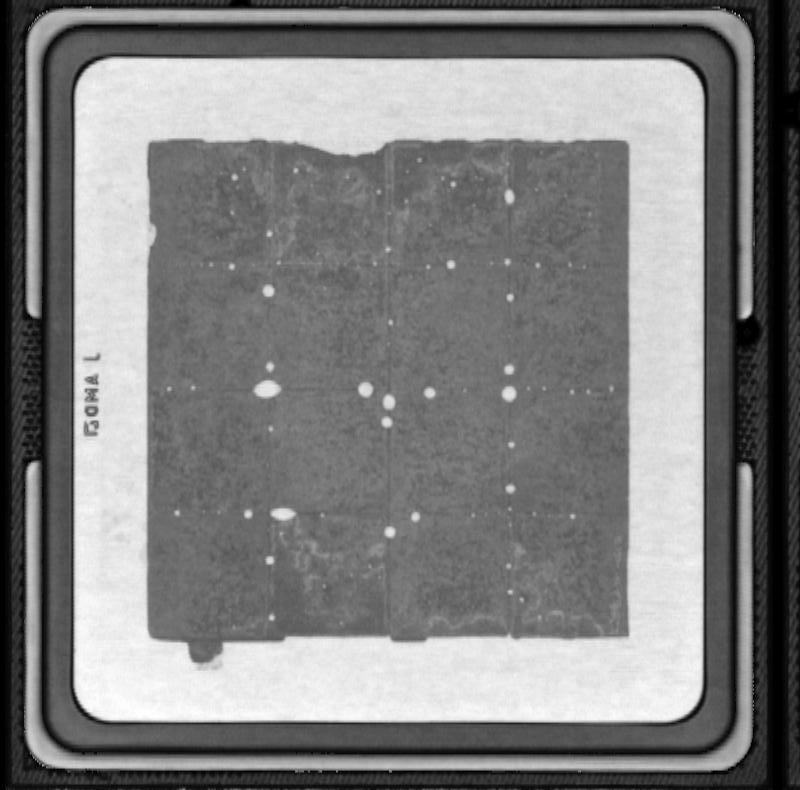CCD: (131, 108, 160, 193), (541, 108, 570, 193), (131, 535, 160, 620), (541, 535, 570, 620), (314, 108, 342, 193), (432, 108, 460, 193), (314, 535, 342, 620), (432, 535, 460, 620)
IOD: (423, 351, 567, 440), (206, 351, 349, 440)
